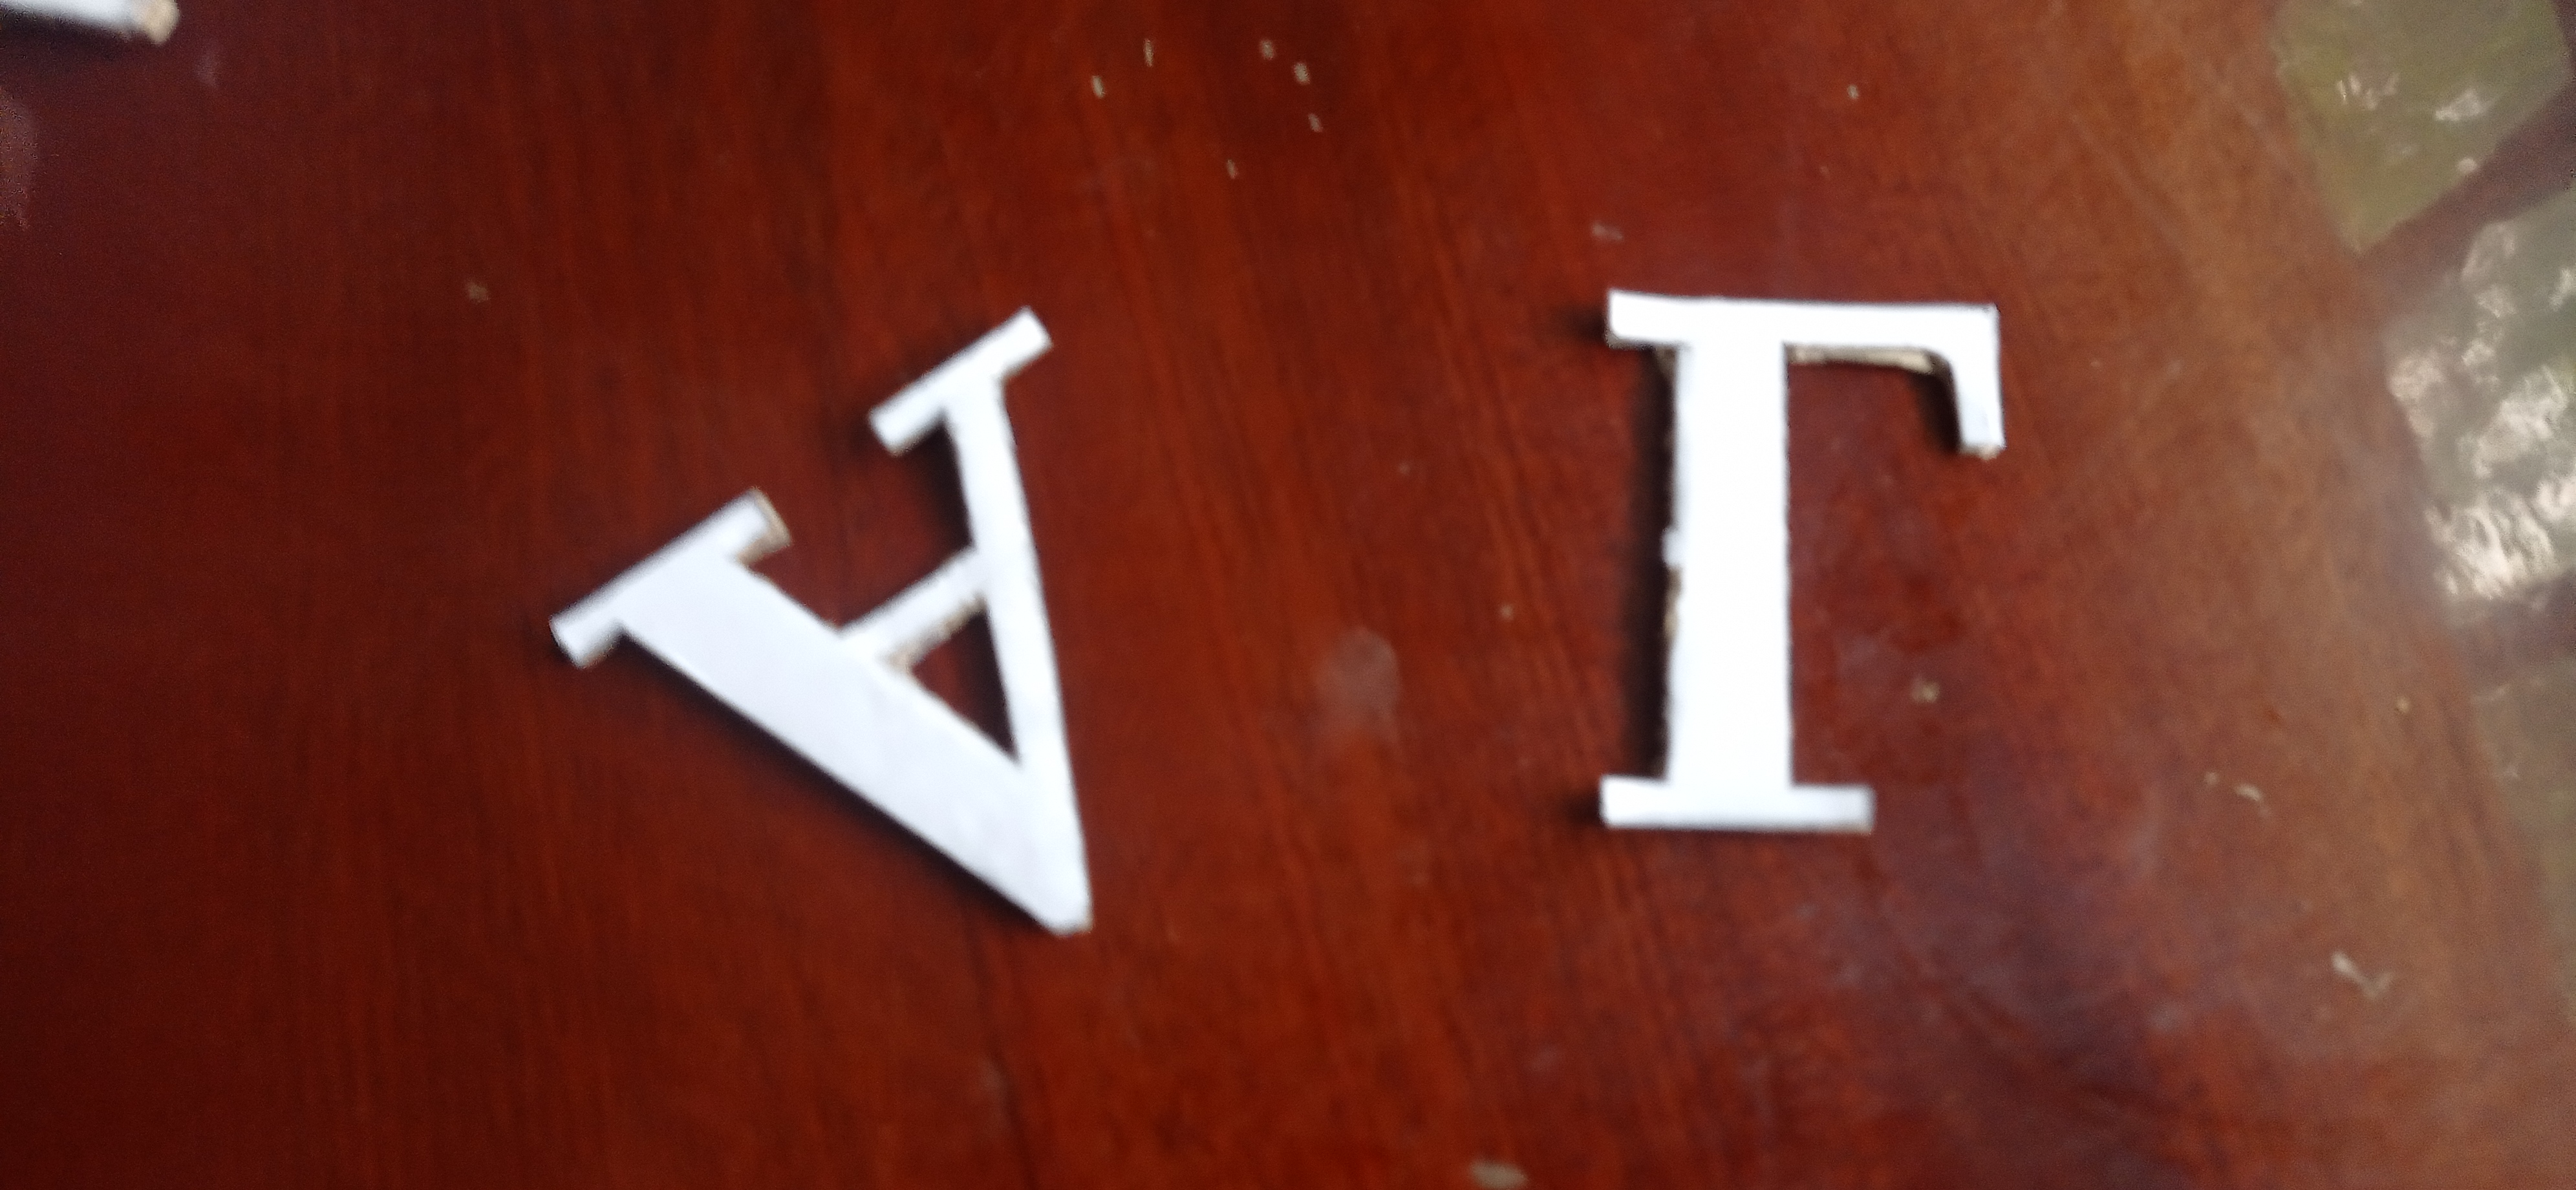a: (537, 302, 1101, 940)
g: (1592, 281, 2009, 833)
